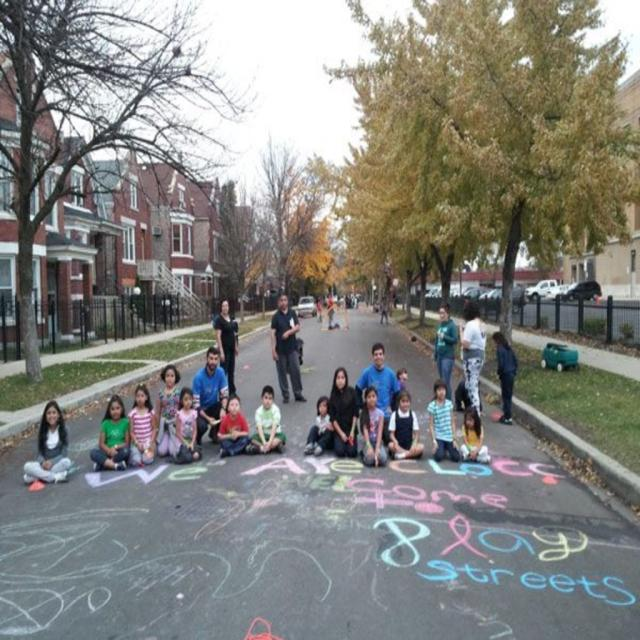car: (296, 293, 313, 319)
